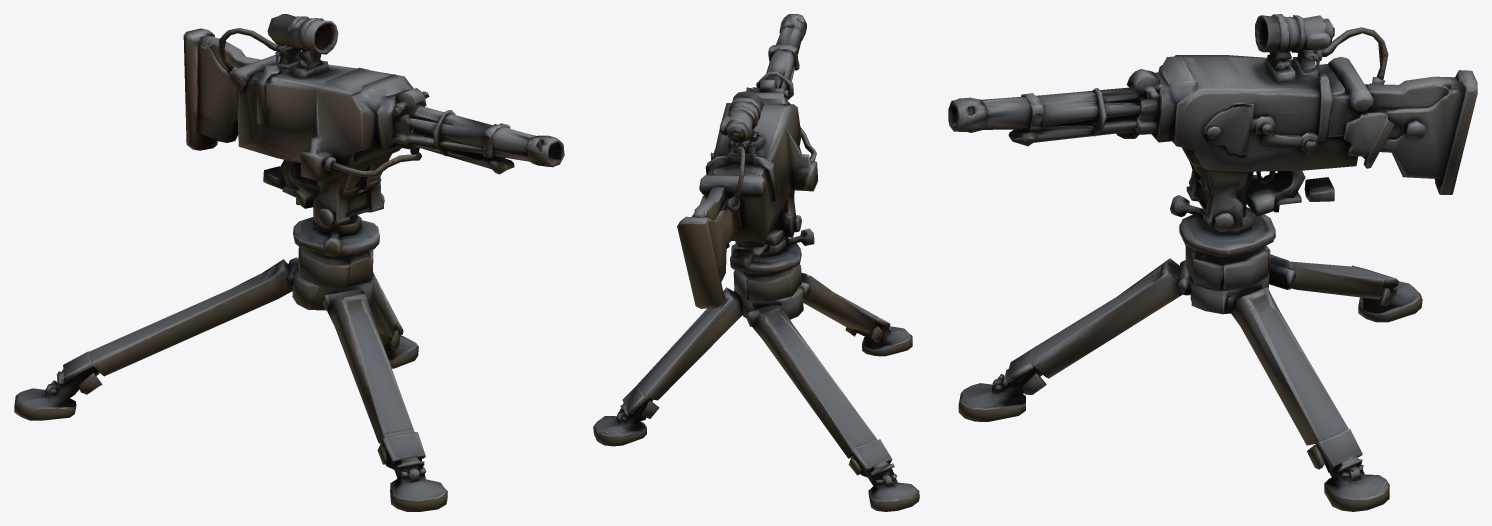
The model's file is fixed_ground_machine_gun.glb.
3 views of the same model, side by side, from view 1: azimuth 30°, elevation 25°; view 2: azimuth 150°, elevation 25°; view 3: azimuth 270°, elevation 25° (orthographic). The views are drawn at different scales.
Parts seen in each view (by area): view 1: tripo_node_cafbc0e5-bce9-4f5b-b739-e6e3b44bc87b; view 2: tripo_node_cafbc0e5-bce9-4f5b-b739-e6e3b44bc87b; view 3: tripo_node_cafbc0e5-bce9-4f5b-b739-e6e3b44bc87b.
Part boxes in pixels (x1,y1,x2,y2): tripo_node_cafbc0e5-bce9-4f5b-b739-e6e3b44bc87b: (14, 14, 564, 511); tripo_node_cafbc0e5-bce9-4f5b-b739-e6e3b44bc87b: (593, 14, 919, 511); tripo_node_cafbc0e5-bce9-4f5b-b739-e6e3b44bc87b: (948, 14, 1477, 511).
Size of the model in its own units: 0.9043 by 0.8848 by 0.998.
1 material, 1 textured.
